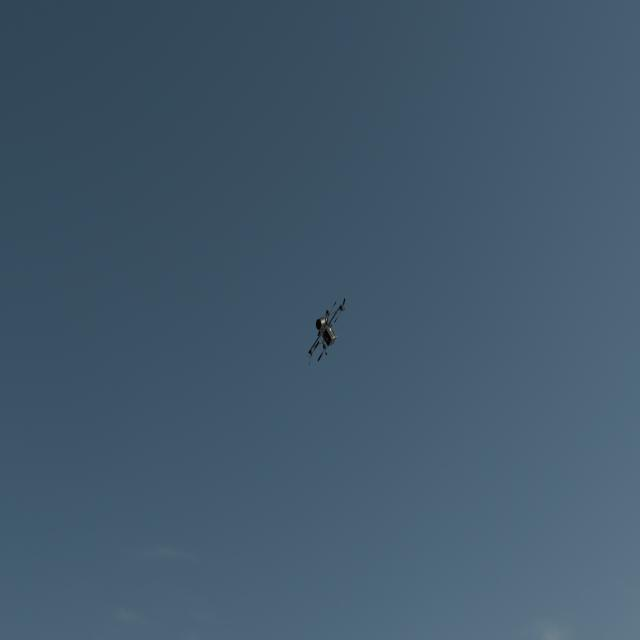drone: (293, 282, 363, 388)
